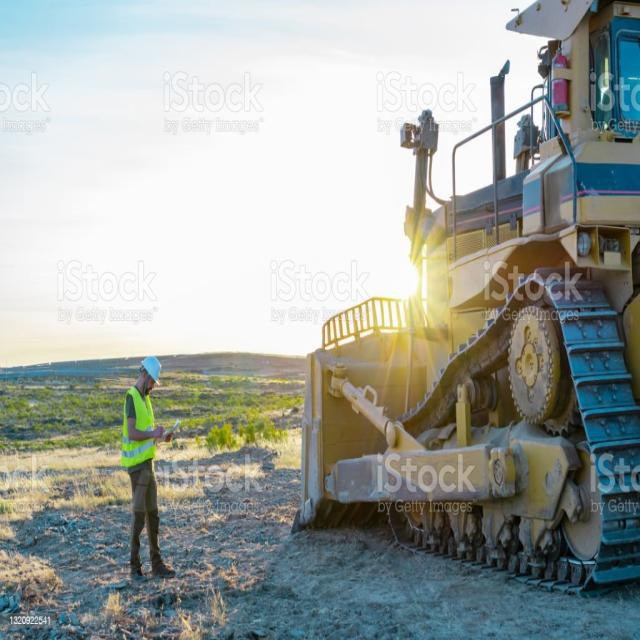helmet: (142, 350, 162, 381)
vest: (120, 382, 164, 472)
